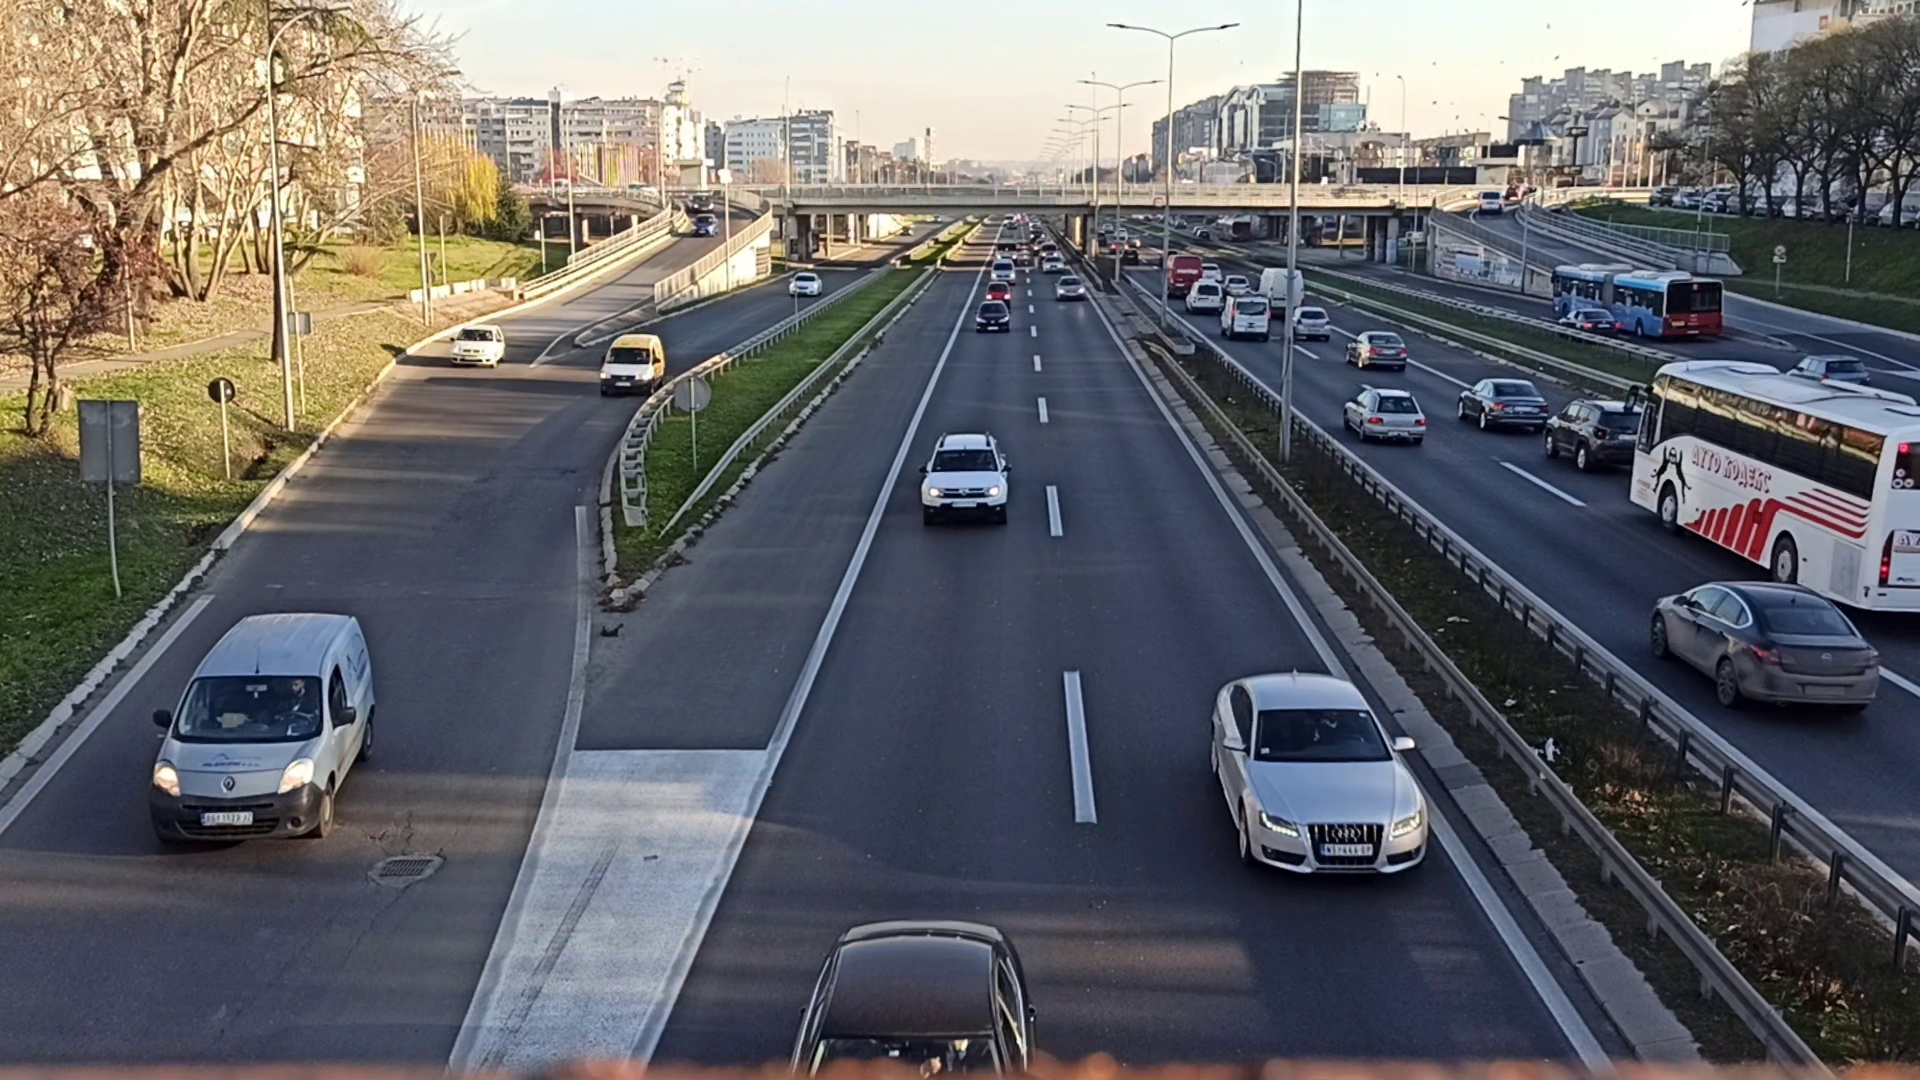bus: (1640, 349, 1920, 608), (1552, 261, 1726, 328)
car: (1197, 665, 1443, 901), (1644, 575, 1884, 723), (920, 423, 1013, 530), (1542, 389, 1640, 464), (1342, 380, 1425, 444), (1456, 377, 1545, 433), (1345, 328, 1412, 375), (448, 322, 509, 369), (1287, 306, 1333, 342), (971, 305, 1010, 338), (786, 268, 820, 301), (1050, 280, 1088, 309), (985, 284, 1009, 302)
van: (156, 605, 375, 848), (601, 331, 665, 394), (1218, 295, 1273, 342)
